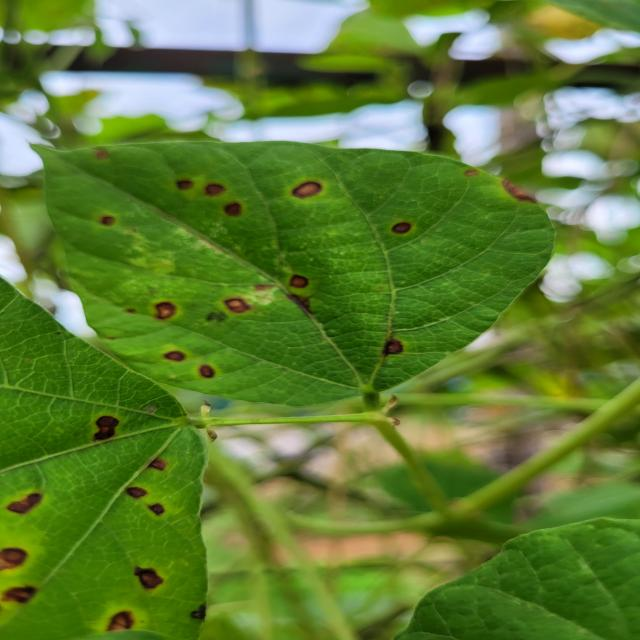Dolicos bean_cercospora leaf spot: (31, 137, 558, 406), (0, 256, 201, 640)
